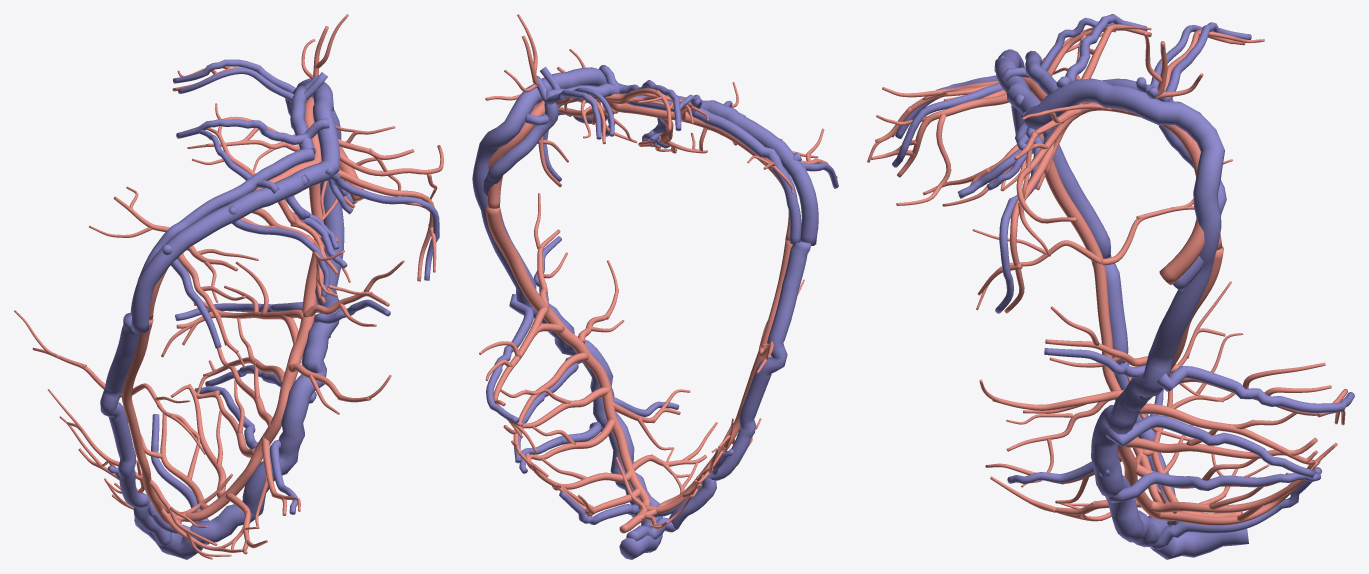
File: vessels_0.glb
The picture shows the model from 3 angles, left to right: view 1: azimuth 30°, elevation 25°; view 2: azimuth 150°, elevation 25°; view 3: azimuth 270°, elevation 25°; orthographic projection. The views are drawn at different scales.
Parts seen in each view (by area): view 1: Renderer Node; view 2: Renderer Node; view 3: Renderer Node.
Boxes of the visible parts, x1,y1,x2,y2 form: Renderer Node: (14, 14, 443, 559); Renderer Node: (472, 14, 838, 559); Renderer Node: (867, 14, 1354, 559).
Size of the model in its own units: 91.07 by 124 by 89.42.
